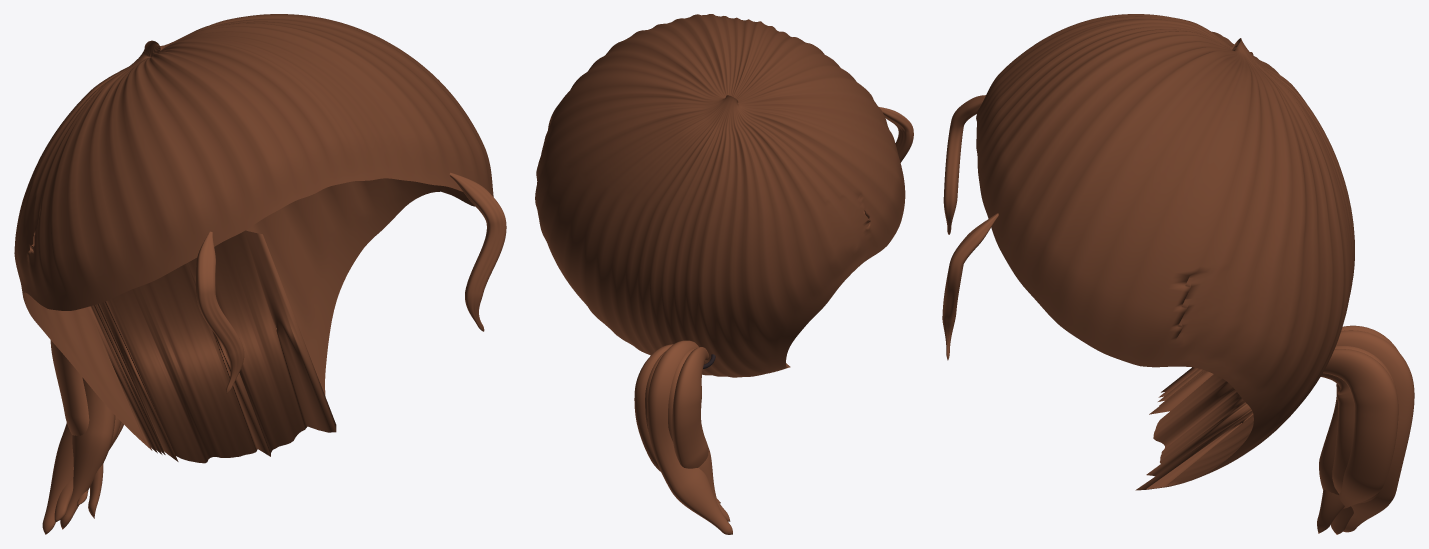
Rendered from Feminine-ponytail-gather249-hair.glb.
3 views of the same model, side by side, from view 1: azimuth 30°, elevation 25°; view 2: azimuth 150°, elevation 25°; view 3: azimuth 270°, elevation 25° (orthographic). The views are drawn at different scales.
Parts seen in each view (by area): view 1: 226 hair / Hair / crisp pulled roots220, 226 hair / Hair / sculpted front locks222, 226 hair / Hair / chestnut212 0, 226 hair / Hair / chestnut212 1, 226 hair / Hair / chestnut212 2; view 2: 226 hair / Hair / crisp pulled roots220, 226 hair / Hair / chestnut212 2, 226 hair / Hair / chestnut212 1, 226 hair / Hair / chestnut212 0, 226 hair / Hair / sculpted front locks222; view 3: 226 hair / Hair / crisp pulled roots220, 226 hair / Hair / chestnut212 0, 226 hair / Hair / chestnut212 2, 226 hair / Hair / sculpted front locks222, 226 hair / Hair / chestnut212 1.
Boxes of the visible parts, <box> form: 226 hair / Hair / crisp pulled roots220: <box>14,14,493,463</box>; 226 hair / Hair / sculpted front locks222: <box>195,172,506,393</box>; 226 hair / Hair / chestnut212 0: <box>60,377,123,529</box>; 226 hair / Hair / chestnut212 1: <box>50,340,121,522</box>; 226 hair / Hair / chestnut212 2: <box>42,422,73,534</box>; 226 hair / Hair / crisp pulled roots220: <box>535,14,905,377</box>; 226 hair / Hair / chestnut212 2: <box>647,340,732,534</box>; 226 hair / Hair / chestnut212 1: <box>645,347,730,521</box>; 226 hair / Hair / chestnut212 0: <box>634,344,720,503</box>; 226 hair / Hair / sculpted front locks222: <box>879,107,913,162</box>; 226 hair / Hair / crisp pulled roots220: <box>976,14,1354,490</box>; 226 hair / Hair / chestnut212 0: <box>1319,349,1398,534</box>; 226 hair / Hair / chestnut212 2: <box>1336,330,1414,532</box>; 226 hair / Hair / sculpted front locks222: <box>942,95,998,360</box>; 226 hair / Hair / chestnut212 1: <box>1317,325,1398,533</box>.
Bounding box in the file's own units: 0.9675 × 1.19 × 0.9221.
